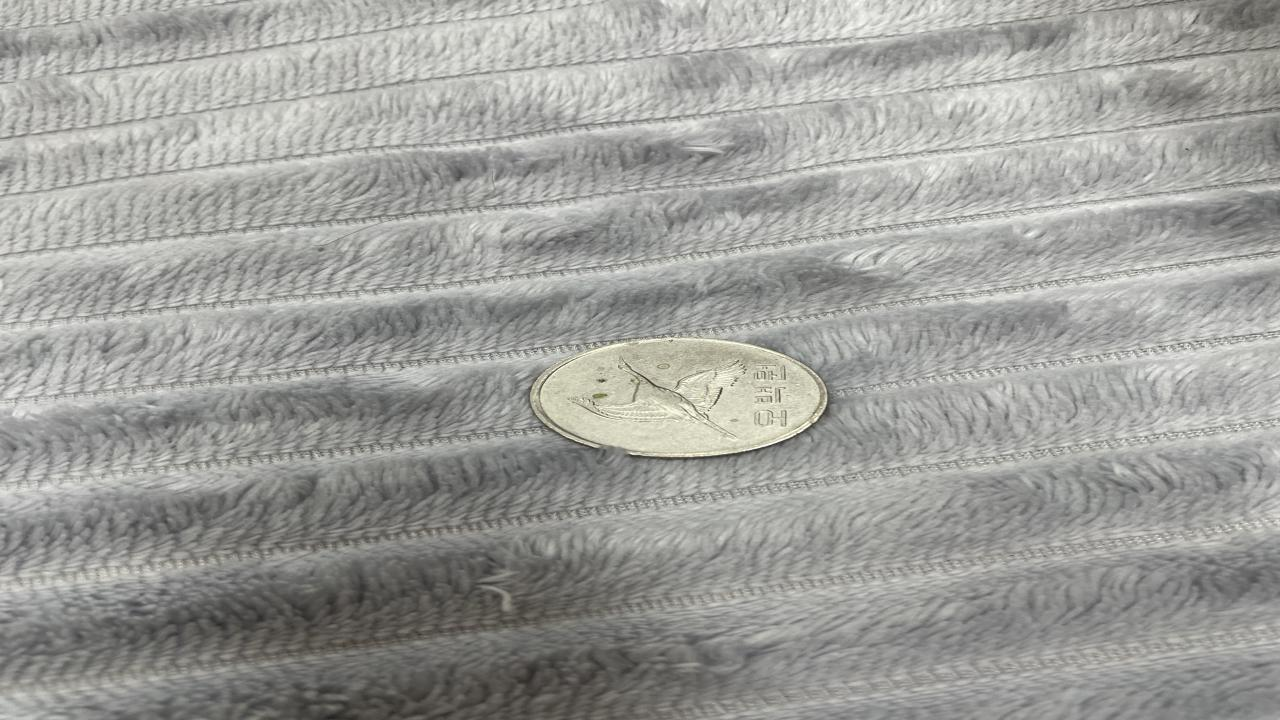coin: (527, 337, 826, 457)
